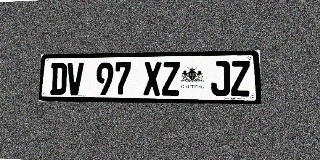7: (113, 62, 131, 95)
9: (96, 62, 113, 95)
D: (50, 63, 67, 95)
J: (210, 61, 230, 96)
V: (66, 63, 84, 95)
X: (143, 62, 161, 96)
Z: (230, 61, 251, 96), (162, 61, 180, 96)
